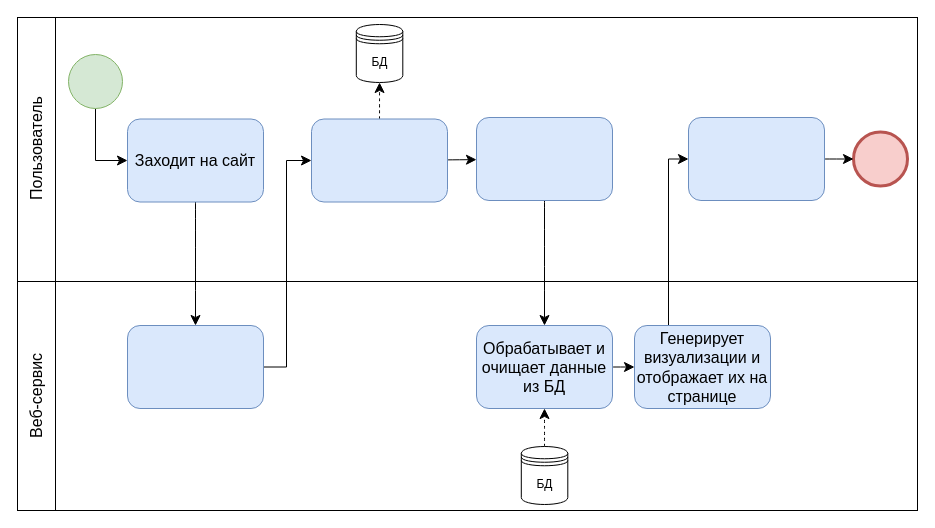
The diagram is 935 pixels wide and 528 high, and some of its shapes have lost their labels. Here are the shapes that lost their labels. From the top down, the centre of each, then its label:
At (x=379, y=160): "Загружает данные в БД".
At (x=544, y=158): "Выбирает тип визуализации".
At (x=756, y=158): "Анализирует готовые визуализации".
At (x=195, y=366): "Отображает страницу загрузки данных".
